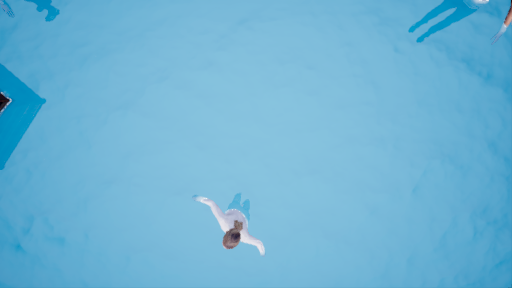person: (189, 187, 278, 260)
